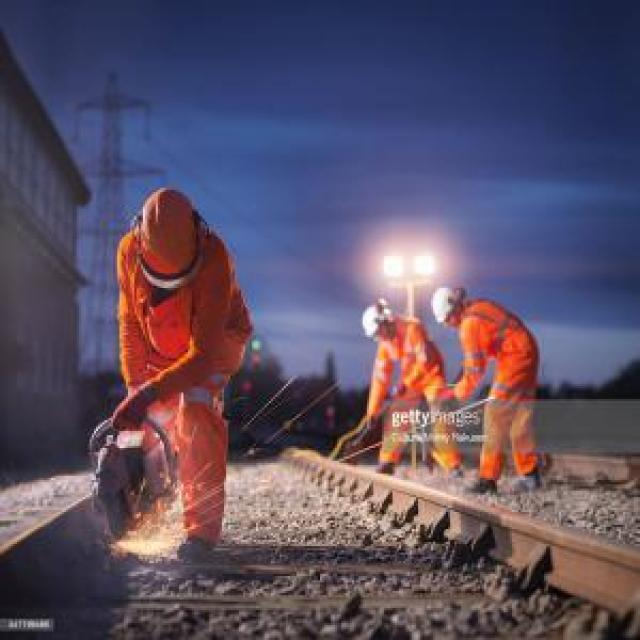rail: (279, 446, 640, 632), (1, 485, 106, 625)
